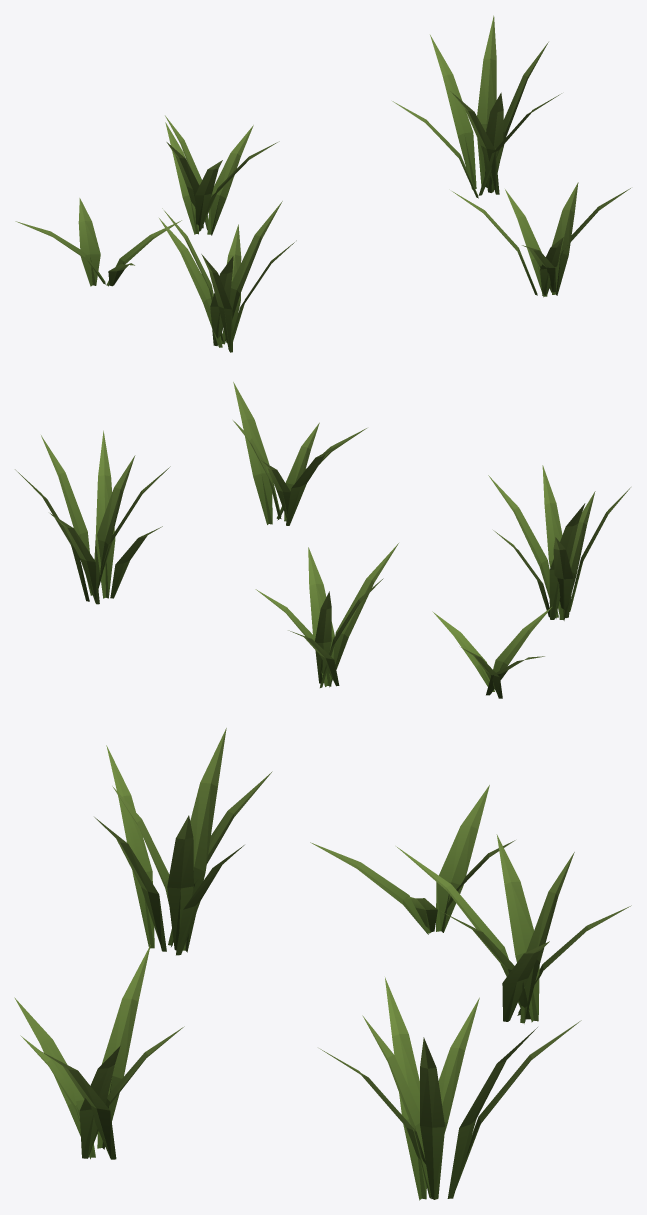
File: SM_GrassSparse.fbx
3 views of the same model, one above another, from view 1: azimuth 30°, elevation 25°; view 2: azimuth 150°, elevation 25°; view 3: azimuth 270°, elevation 25° (orthographic). The views are drawn at different scales.
Parts seen in each view (by area): view 1: SM_GrassSparse; view 2: SM_GrassSparse; view 3: SM_GrassSparse.
Part boxes in pixels (x1,y1,x2,y2): SM_GrassSparse: (15, 15, 630, 352); SM_GrassSparse: (15, 382, 630, 698); SM_GrassSparse: (14, 728, 631, 1200).
Bounding box in the file's own units: 1.31 × 0.9634 × 0.3431.
Materials: 1 (1 with a texture image).
